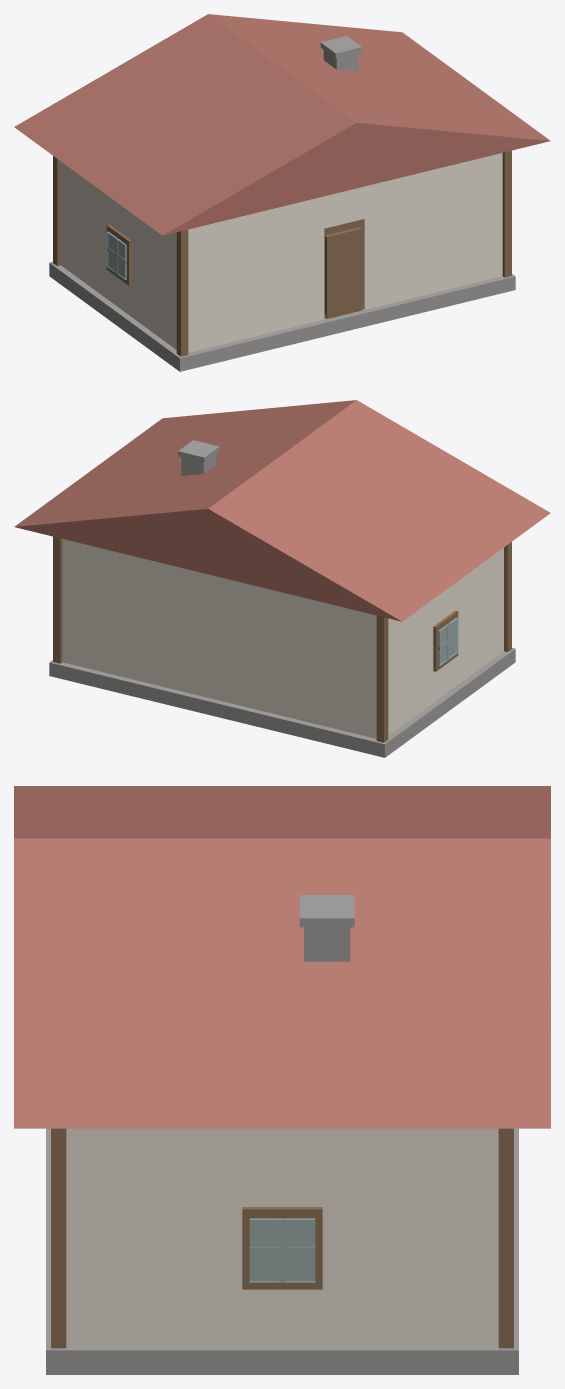
File: BLD-inn-01.glb
The picture shows the model from 3 angles, top to bottom: view 1: azimuth 30°, elevation 25°; view 2: azimuth 150°, elevation 25°; view 3: azimuth 270°, elevation 25°; orthographic projection. The views are drawn at different scales.
Parts seen in each view (by area): view 1: BLD-inn-01; view 2: BLD-inn-01; view 3: BLD-inn-01.
Boxes of the visible parts, bbox=[...] form: BLD-inn-01: bbox=[14, 14, 550, 371]; BLD-inn-01: bbox=[14, 400, 550, 757]; BLD-inn-01: bbox=[14, 786, 550, 1374].
Size of the model in its own units: 9.6 by 5.07 by 6.36.
